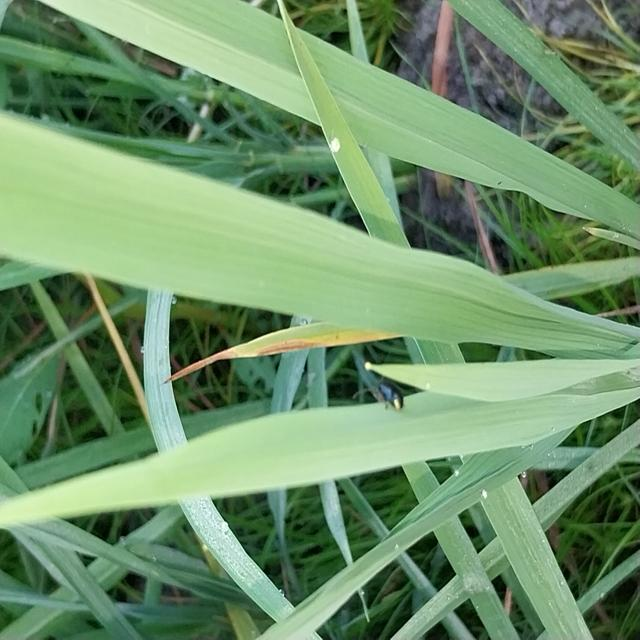Brown spot: (161, 283, 408, 385), (82, 258, 158, 448), (582, 220, 624, 247)
